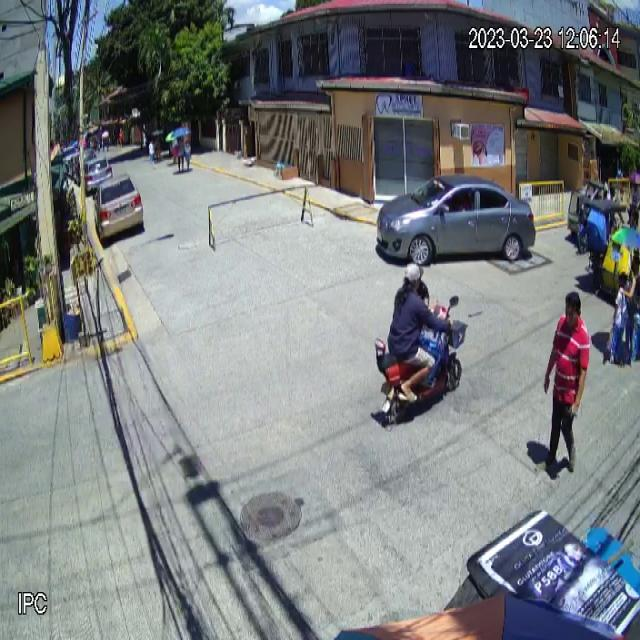Car: (373, 171, 538, 265)
